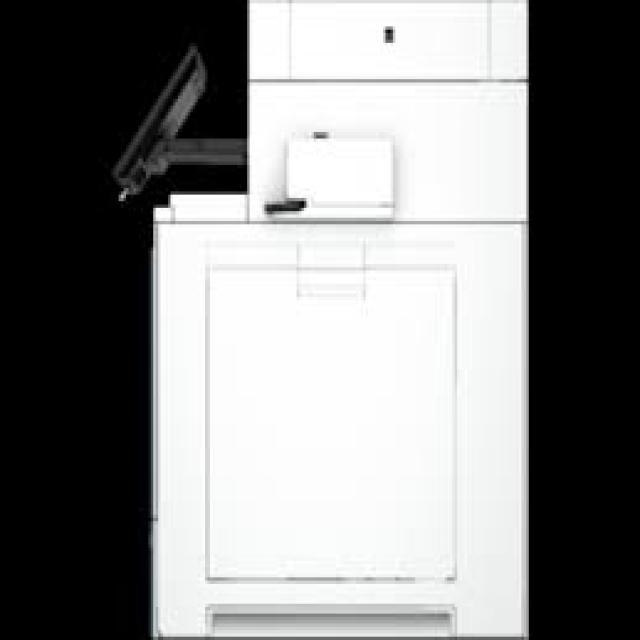printer: (128, 0, 532, 637)
